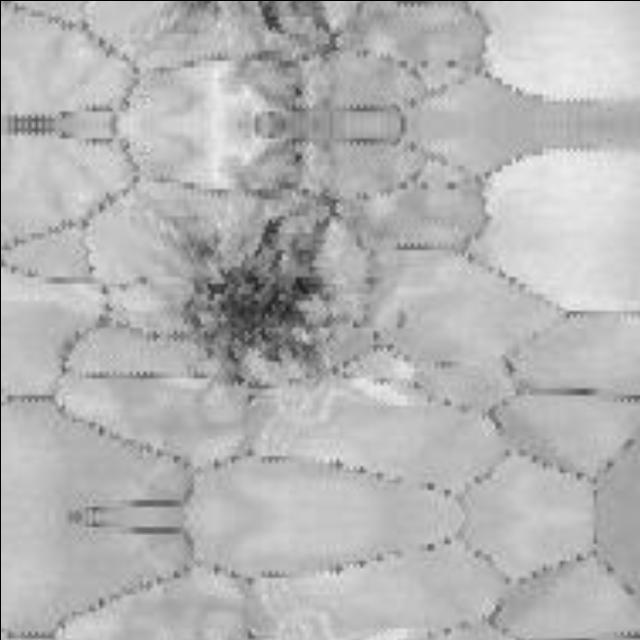good_void: (173, 209, 342, 382)
